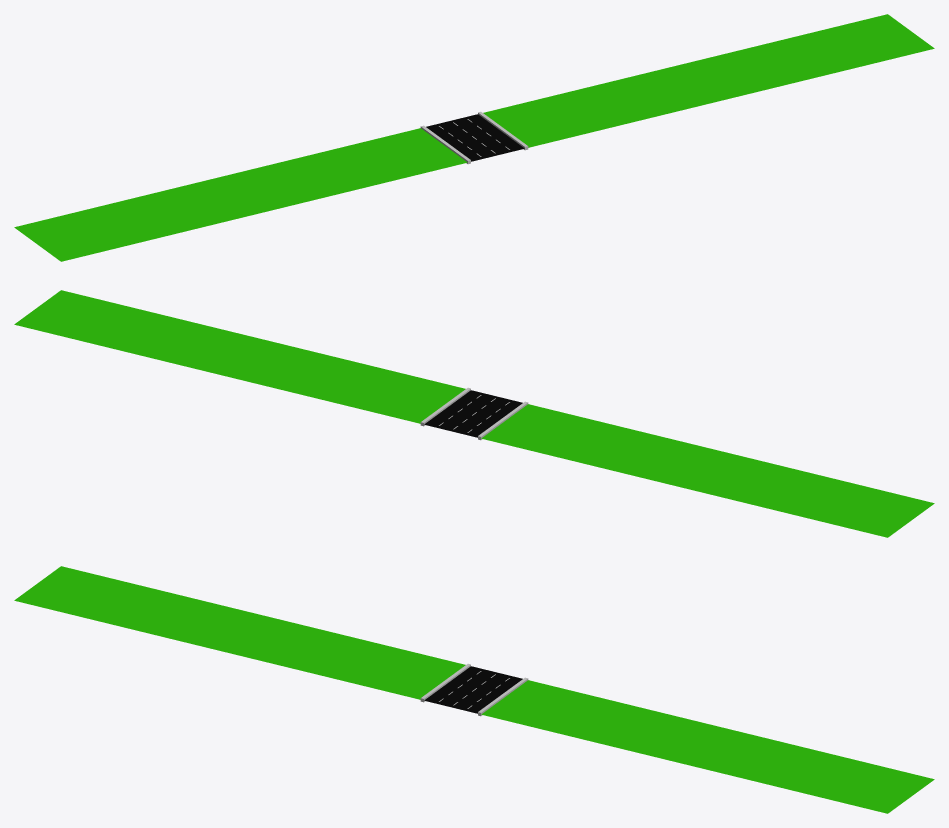
Rendered from vr_road.obj.
3 views of the same model, one above another, from view 1: azimuth 30°, elevation 25°; view 2: azimuth 150°, elevation 25°; view 3: azimuth 330°, elevation 25° (orthographic).
Parts seen in each view (by area): view 1: GrassR_Plane.003, GrassL_Plane.002, Road_Plane.001; view 2: GrassR_Plane.003, GrassL_Plane.002, Road_Plane.001; view 3: GrassL_Plane.002, GrassR_Plane.003, Road_Plane.001.
Part boxes in pixels (<box>): GrassR_Plane.003: <box>14,128,467,261</box>; GrassL_Plane.002: <box>483,14,934,147</box>; Road_Plane.001: <box>426,114,524,161</box>; GrassR_Plane.003: <box>481,404,934,537</box>; GrassL_Plane.002: <box>14,290,465,423</box>; Road_Plane.001: <box>424,390,522,437</box>; GrassL_Plane.002: <box>481,680,934,813</box>; GrassR_Plane.003: <box>14,566,465,699</box>; Road_Plane.001: <box>424,666,522,713</box>.
Size of the model in its own units: 214 by 0.8 by 20.
